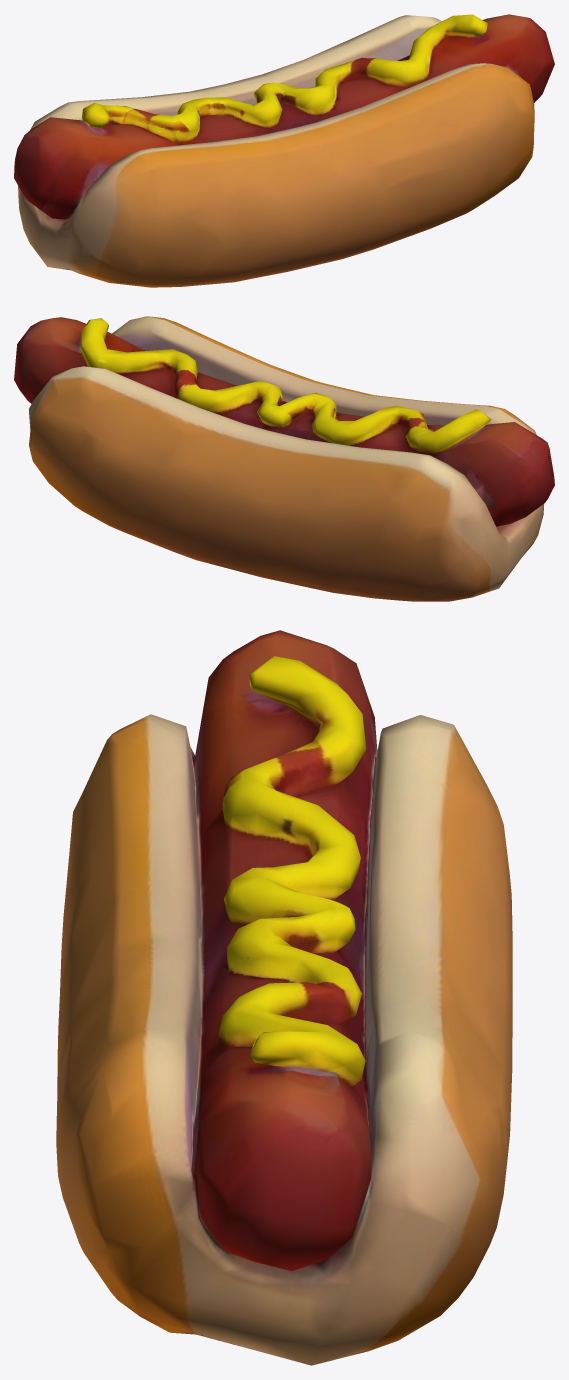
Rendered from tripo_convert_f902e7c5-29b8-47f8-b7e5-4035b453193a.fbx.
3 views of the same model, one above another, from view 1: azimuth 30°, elevation 25°; view 2: azimuth 150°, elevation 25°; view 3: azimuth 270°, elevation 25° (orthographic). The views are drawn at different scales.
Visible parts, largest first — view 1: tripo_node_f902e7c5; view 2: tripo_node_f902e7c5; view 3: tripo_node_f902e7c5.
Part boxes in pixels (box(x1,y1,x2,y2)): tripo_node_f902e7c5: box(14, 14, 554, 287); tripo_node_f902e7c5: box(14, 316, 554, 601); tripo_node_f902e7c5: box(56, 630, 512, 1365).
Bounding box in the file's own units: 1 × 0.3181 × 0.3748.
1 material, 1 textured.
